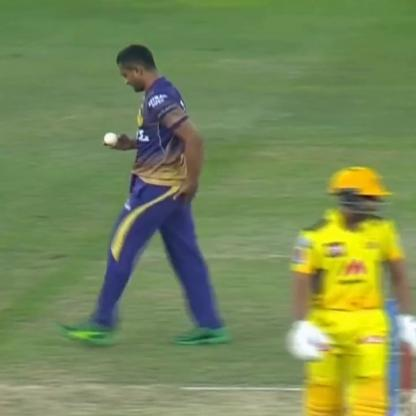ball: (103, 123, 120, 149)
